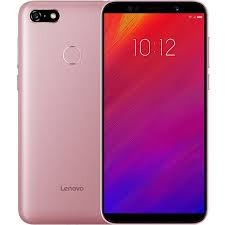lenovo: (16, 1, 207, 225), (98, 1, 205, 225)
